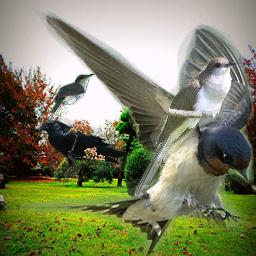Crow: (35, 118, 126, 179)
Cuckoo: (133, 56, 237, 197), (50, 73, 96, 114)
Swallow: (21, 9, 254, 256)
